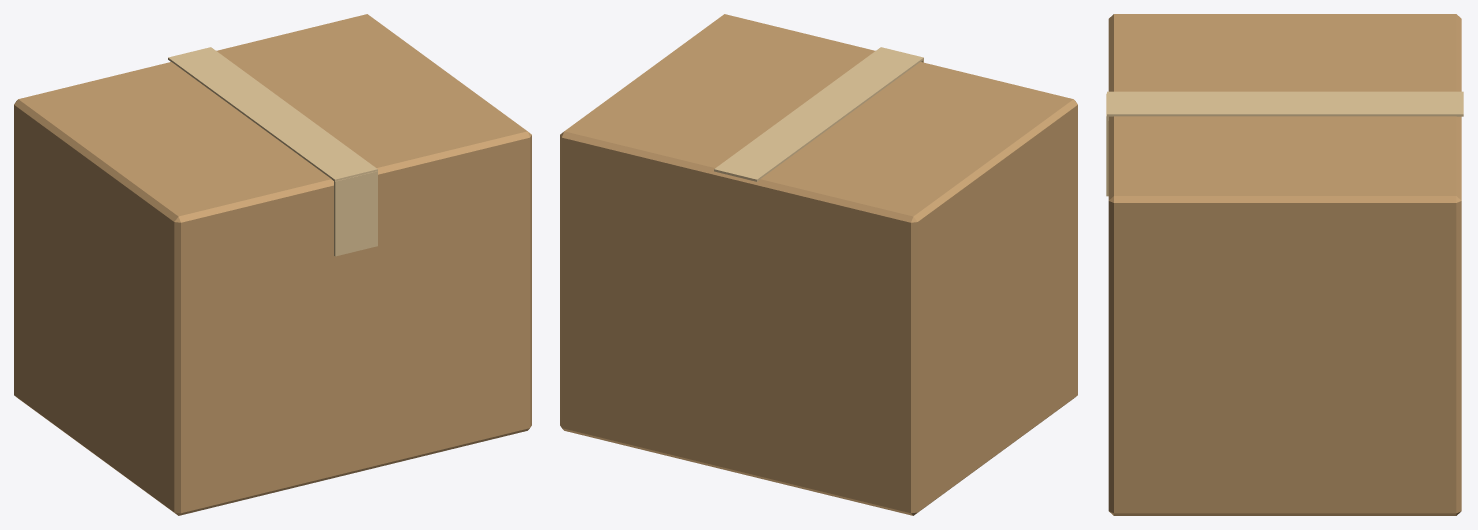
File: box_large.glb
3 renders of one model, left to right at view 1: azimuth 30°, elevation 25°; view 2: azimuth 150°, elevation 25°; view 3: azimuth 270°, elevation 25°, orthographic. The views are drawn at different scales.
Parts seen in each view (by area): view 1: box_large; view 2: box_large; view 3: box_large.
Boxes of the visible parts, x1,y1,x2,y2 form: box_large: (14, 14, 531, 515); box_large: (560, 14, 1077, 515); box_large: (1106, 14, 1463, 515).
Size of the model in its own units: 0.5 by 0.4025 by 0.4045.
Materials: 1 (1 with a texture image).
